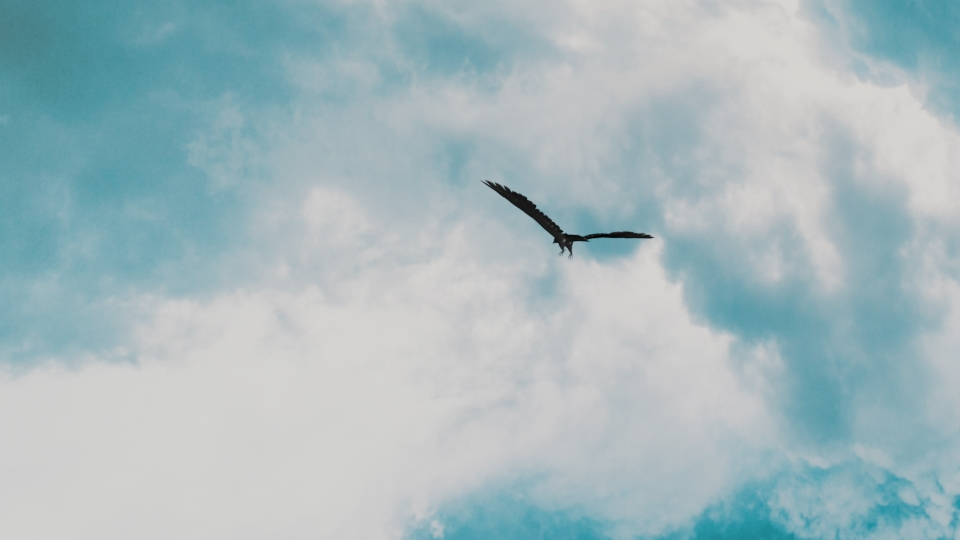bird: (476, 180, 654, 261)
